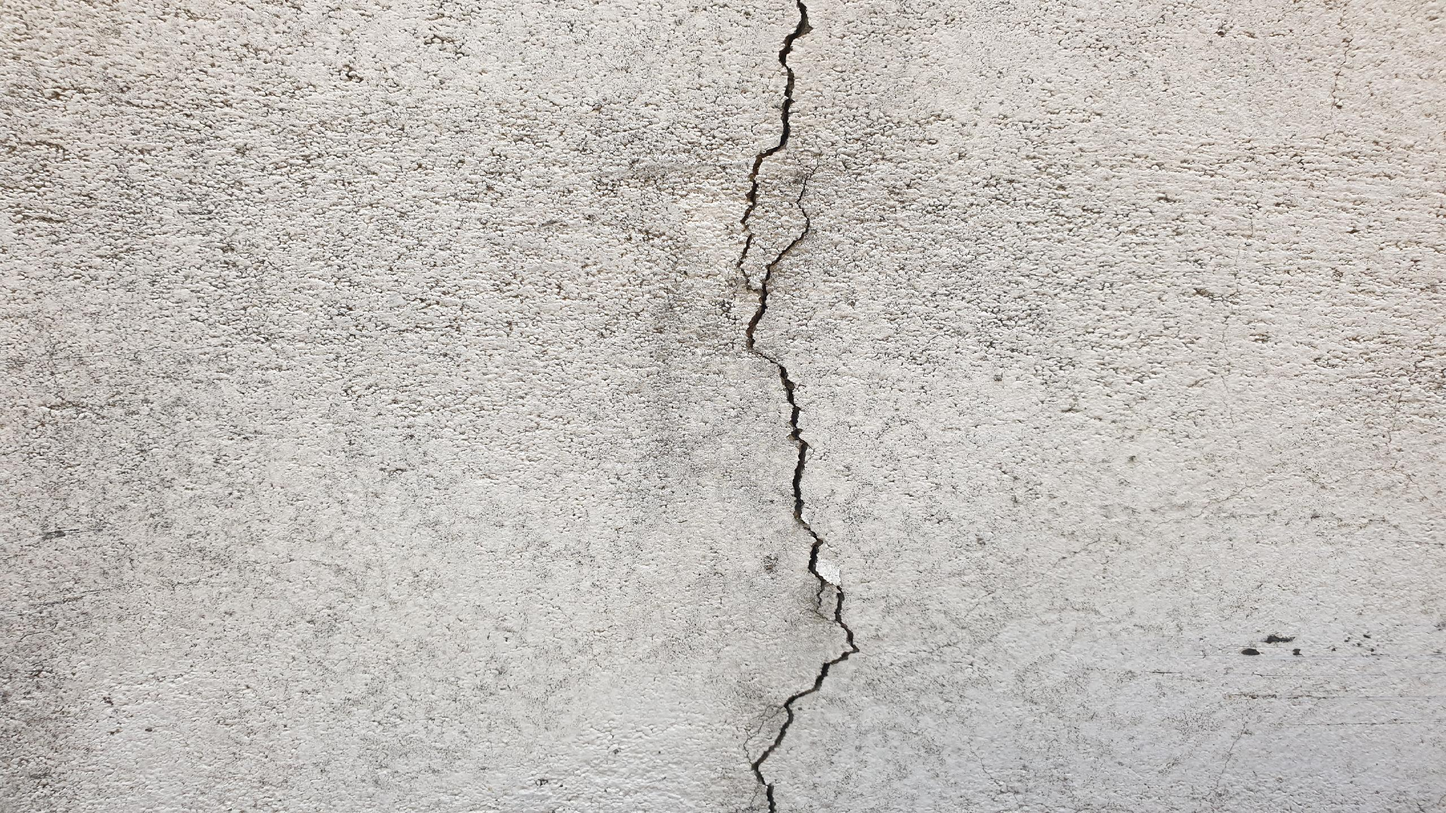crack: (740, 0, 859, 812)
